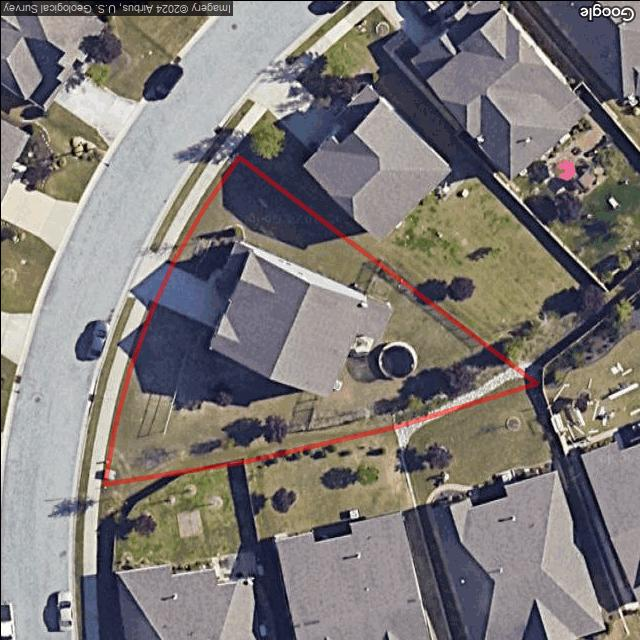Driveway: (153, 264, 228, 328)
Extra-Driveway: (126, 246, 171, 303)
Extra-Lawn: (78, 297, 133, 484), (101, 300, 156, 483), (165, 152, 239, 266), (149, 135, 221, 251)
Extra-Sidewalk: (86, 298, 149, 483), (156, 141, 231, 260)
House: (208, 249, 366, 396)
Lawn: (103, 158, 536, 483)
Other: (391, 352, 524, 427), (343, 295, 392, 367), (194, 226, 243, 282), (377, 340, 416, 377)
Sidewalk: (207, 269, 222, 284)
